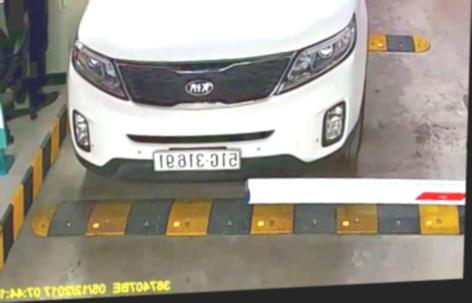License_Plate: (148, 143, 241, 177)
